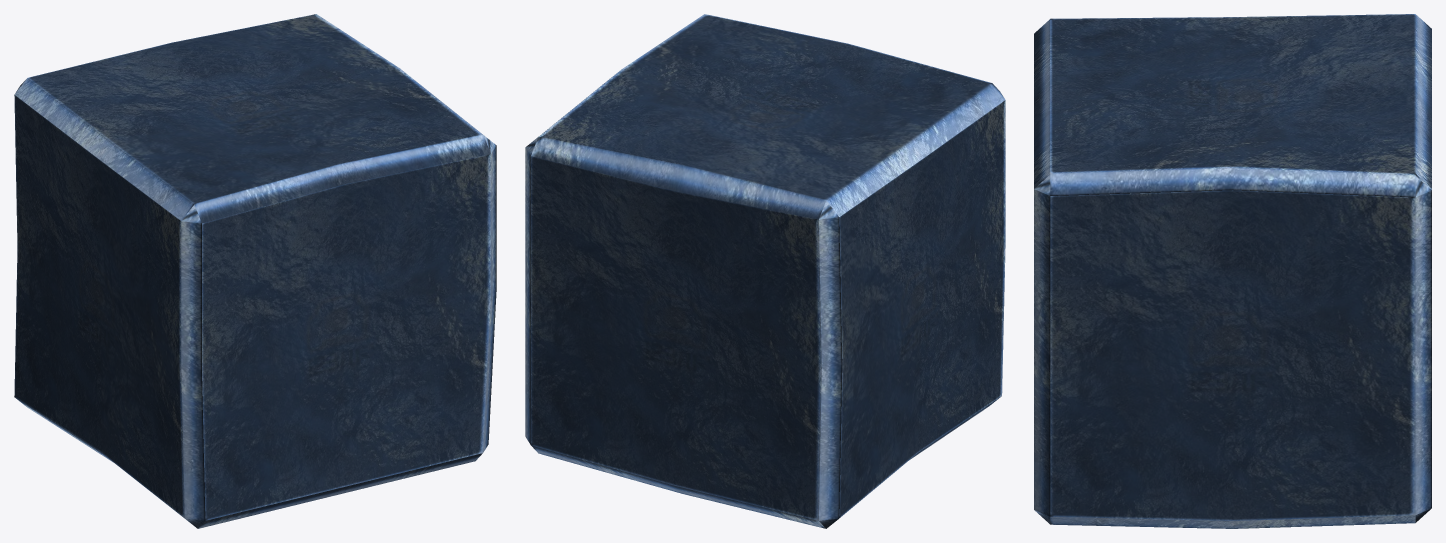
Rendered from icon_freeze.FBX.
The picture shows the model from 3 angles, left to right: view 1: azimuth 30°, elevation 25°; view 2: azimuth 150°, elevation 25°; view 3: azimuth 270°, elevation 25°; orthographic projection. The views are drawn at different scales.
Visible parts, largest first — view 1: ice_cube; view 2: ice_cube; view 3: ice_cube.
Part boxes in pixels (box(x1,y1,x2,y2)): ice_cube: box(14, 14, 496, 528); ice_cube: box(525, 14, 1005, 528); ice_cube: box(1034, 14, 1431, 528).
Bounding box in the file's own units: 48.59 × 48.59 × 48.59.
Materials: 1 (1 with a texture image).
